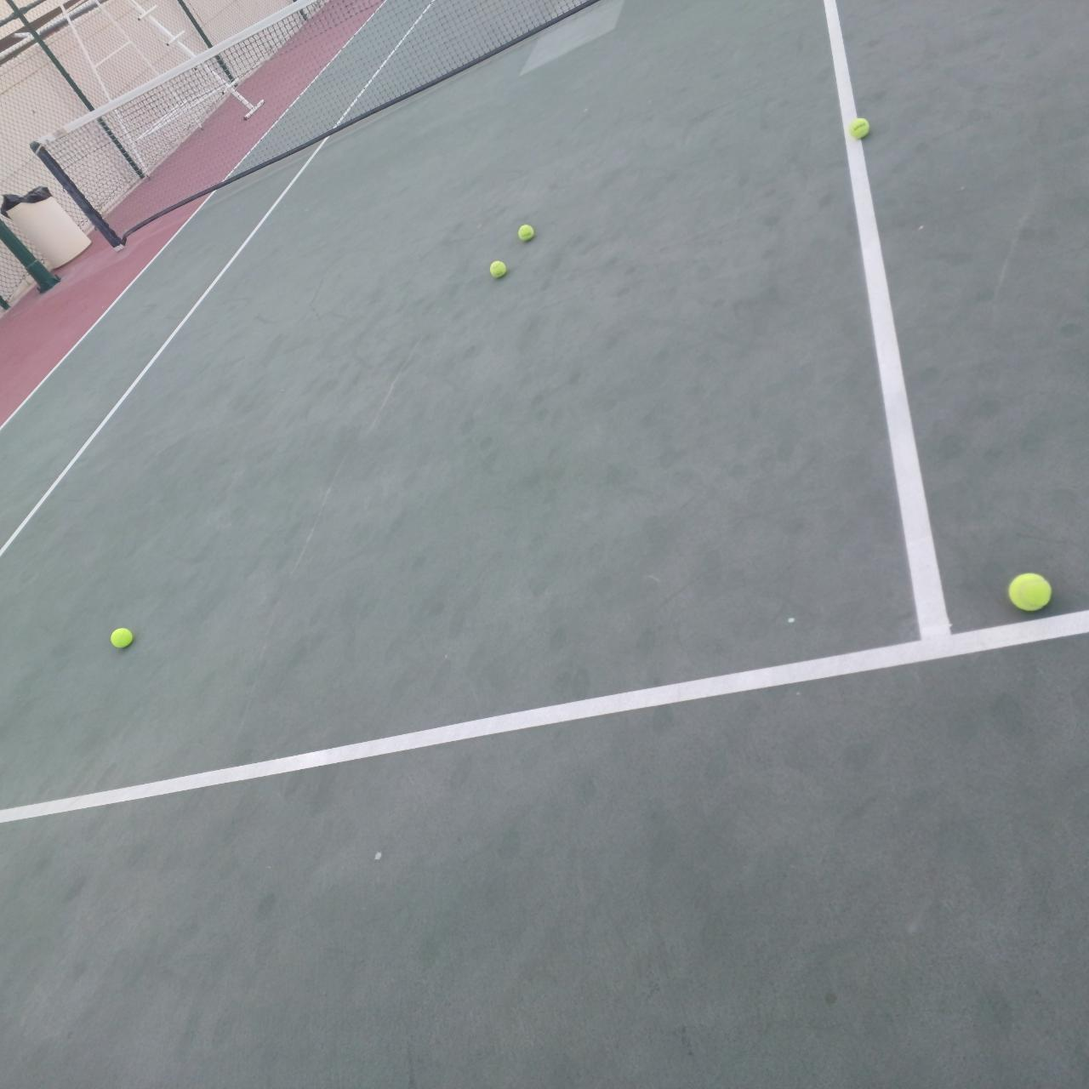tennis-ball: (1006, 569, 1052, 612), (108, 624, 134, 649), (847, 116, 870, 139), (487, 258, 507, 278), (516, 221, 534, 241)
